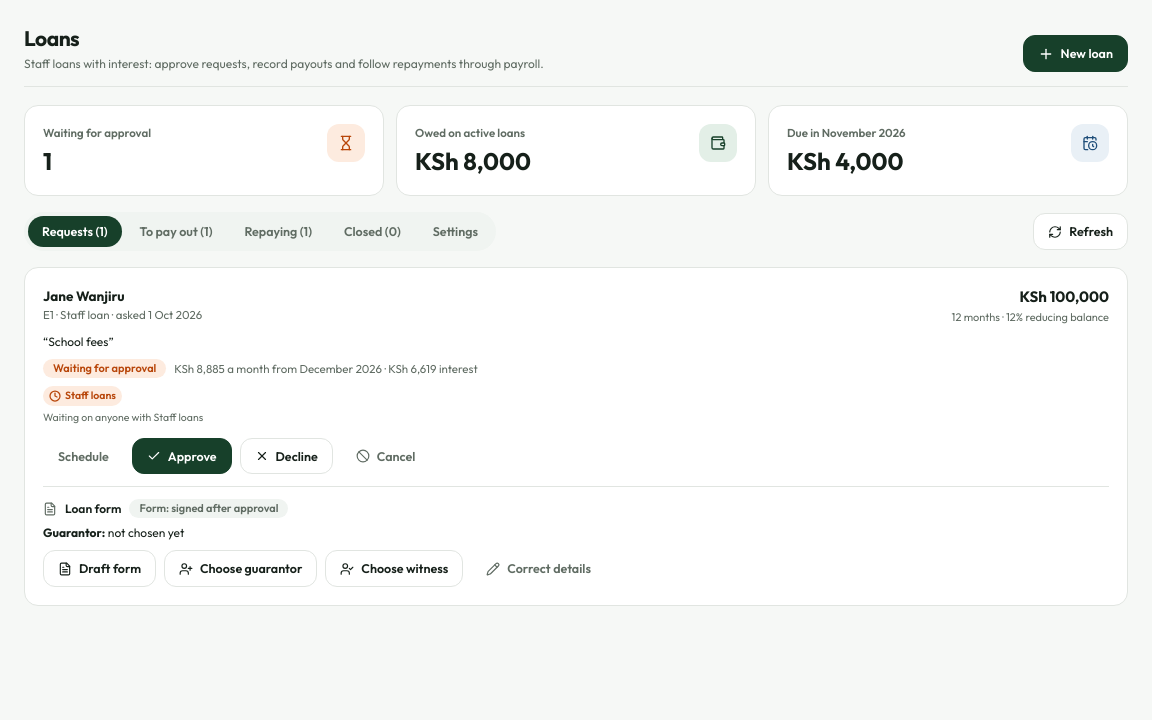
Test: the loans page › without the guarantor’s signature, a form signed in the app is not ready
Check: the list item with test id "loan-r1" is shown, box [24,267,1128,606]
Click the button "To pay out (1)" at (176, 232), box [126,216,226,247]
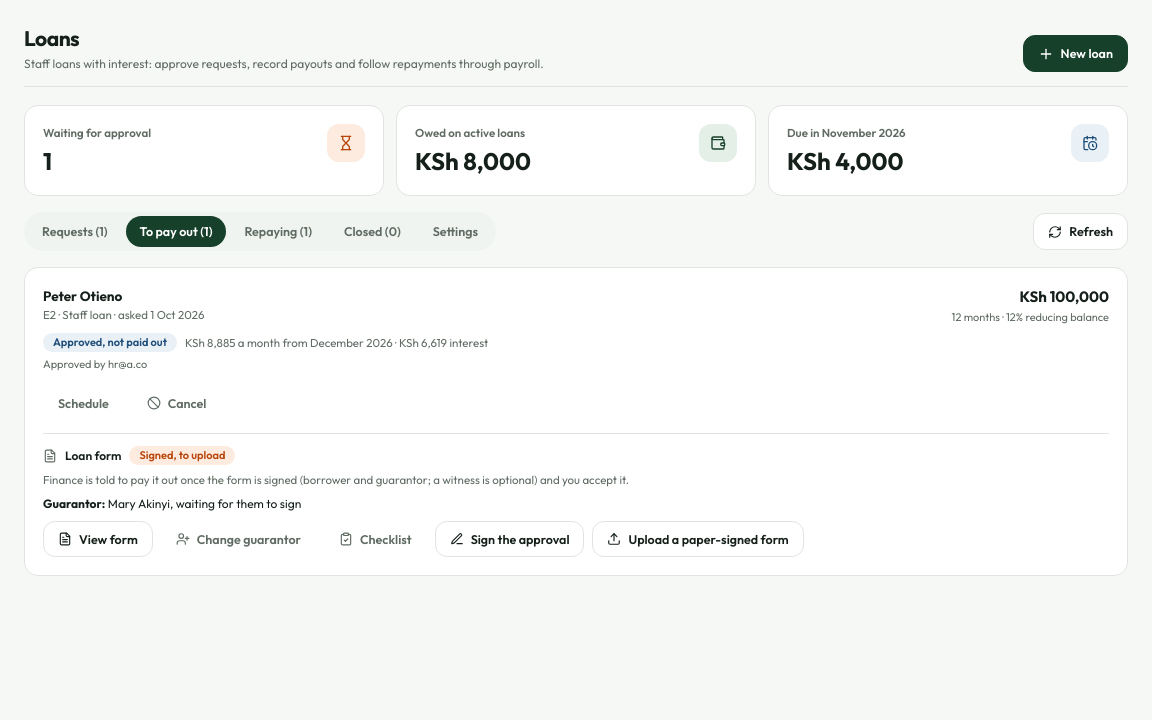
Check: the element with test id "guarantor-a1" shows "waiting for them to sign", box [108,496,301,510]
